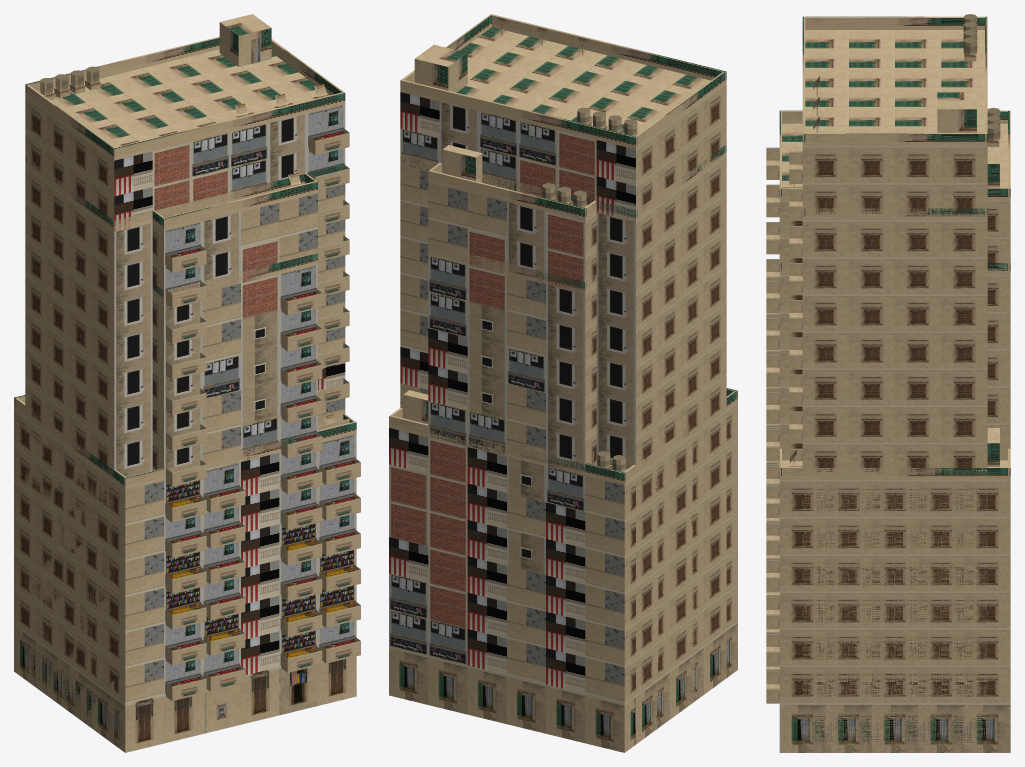
3 views of the same model, side by side, from view 1: azimuth 30°, elevation 25°; view 2: azimuth 150°, elevation 25°; view 3: azimuth 270°, elevation 25° (orthographic). The views are drawn at different scales.
Visible parts, largest first — view 1: Plaster_6x5_f6_v1, Plaster_6x4_f13_v1, Plaster_6x4_f15_v0, Plaster_4x5_f11_v1, Plaster_4x5_f13_v1; view 2: Plaster_6x5_f6_v1, Plaster_6x4_f13_v1, Plaster_6x4_f15_v0, Plaster_4x5_f11_v1, Plaster_4x5_f13_v1; view 3: Plaster_6x4_f13_v1, Plaster_6x5_f6_v1, Plaster_6x4_f15_v0, Plaster_4x5_f11_v1, Plaster_4x5_f13_v1.
Boxes of the visible parts, x1=… form: Plaster_6x5_f6_v1: x1=14, y1=395, x2=360, y2=752; Plaster_6x4_f13_v1: x1=25, y1=156, x2=345, y2=744; Plaster_6x4_f15_v0: x1=25, y1=14, x2=349, y2=430; Plaster_4x5_f11_v1: x1=152, y1=253, x2=322, y2=480; Plaster_4x5_f13_v1: x1=152, y1=172, x2=317, y2=486; Plaster_6x5_f6_v1: x1=389, y1=388, x2=737, y2=752; Plaster_6x4_f13_v1: x1=400, y1=145, x2=726, y2=744; Plaster_6x4_f15_v0: x1=400, y1=14, x2=726, y2=221; Plaster_4x5_f11_v1: x1=428, y1=244, x2=596, y2=475; Plaster_4x5_f13_v1: x1=428, y1=145, x2=596, y2=293; Plaster_6x4_f13_v1: x1=802, y1=208, x2=987, y2=752; Plaster_6x5_f6_v1: x1=766, y1=424, x2=1010, y2=752; Plaster_6x4_f15_v0: x1=789, y1=14, x2=987, y2=466; Plaster_4x5_f11_v1: x1=766, y1=263, x2=1010, y2=461; Plaster_4x5_f13_v1: x1=766, y1=107, x2=1010, y2=391.
Bounding box in the file's own units: 21 × 53.4 × 18.5.
Materials: 1 (1 with a texture image).
